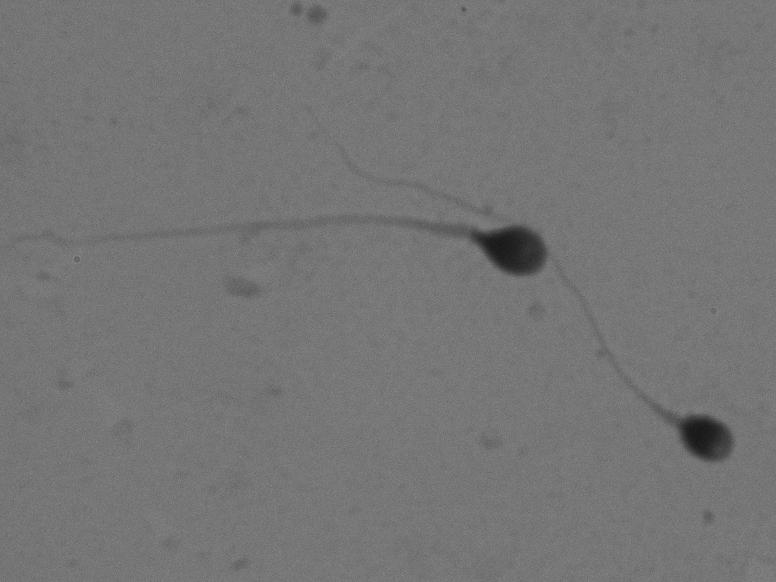Abnormal: (4, 185, 553, 304)
Normal: (265, 70, 758, 490)
